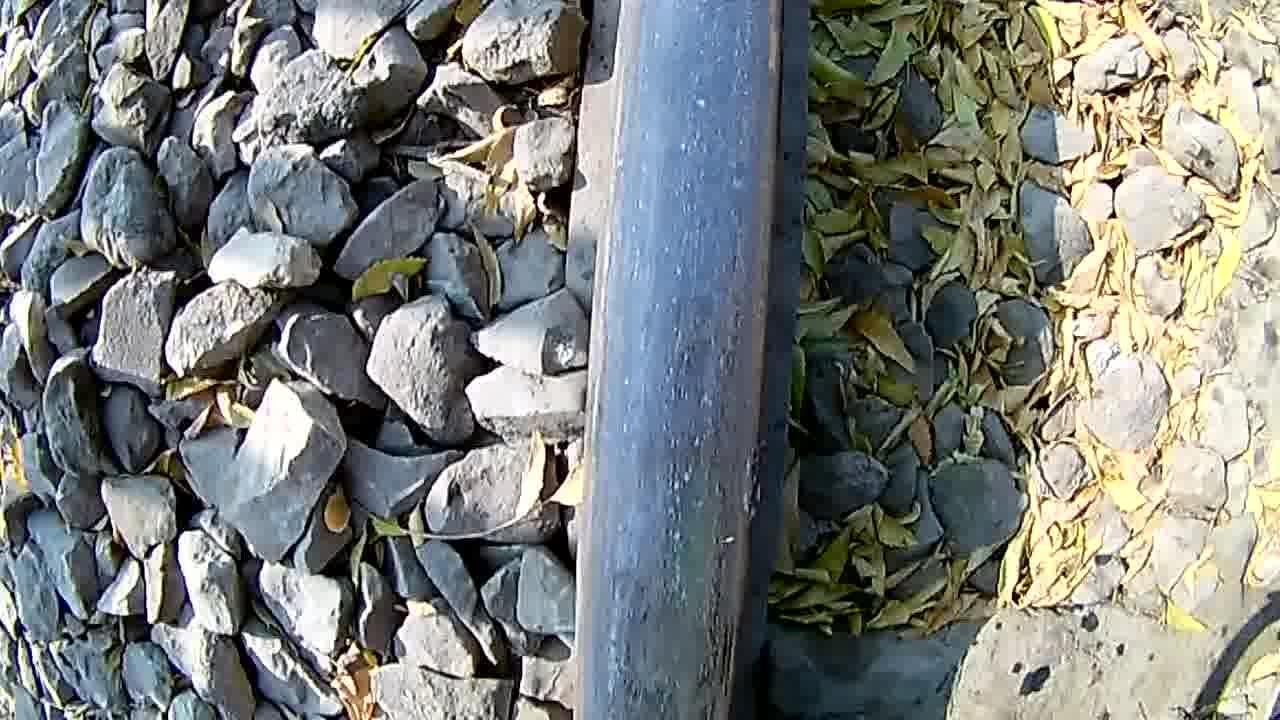crack: (574, 523, 752, 720)
